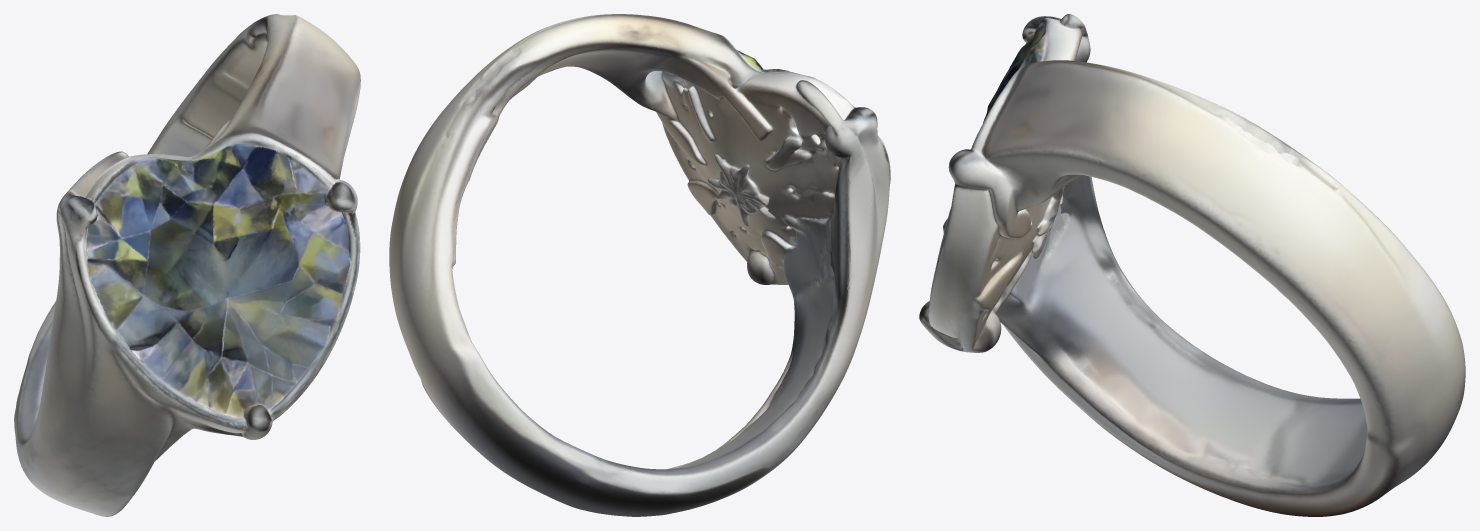
The picture shows the model from 3 angles, left to right: view 1: azimuth 30°, elevation 25°; view 2: azimuth 150°, elevation 25°; view 3: azimuth 270°, elevation 25°; orthographic projection. The views are drawn at different scales.
Bounding box in the file's own units: 0.734 × 0.8364 × 0.8352.
1 material, 1 textured.
